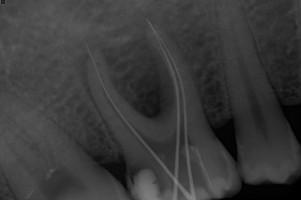Dental Caries: (74, 5, 180, 117)
